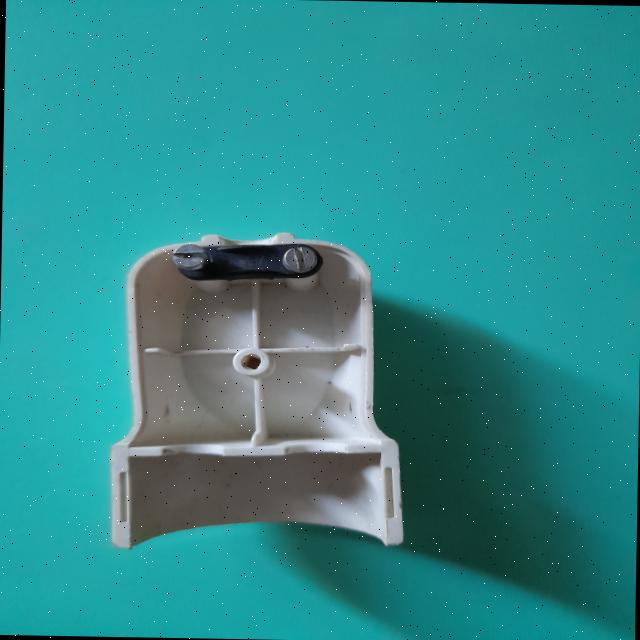Slotted: (172, 242, 207, 270), (282, 245, 316, 273)
